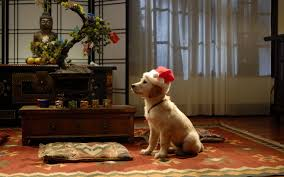dog_sitting: (130, 67, 205, 162)
